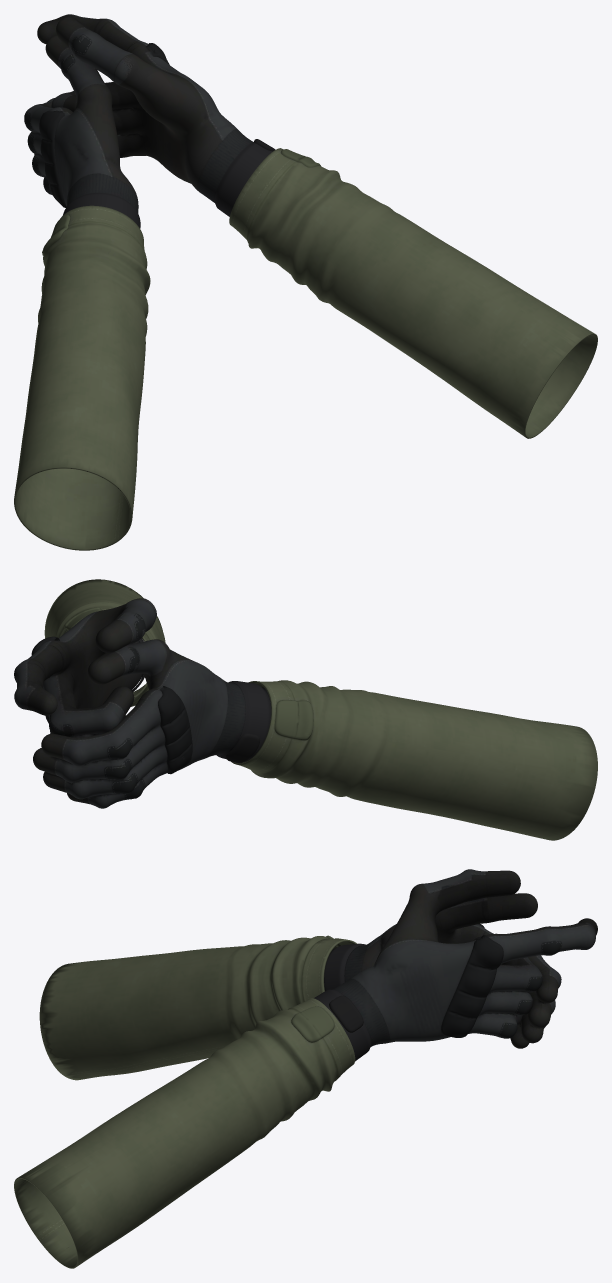
Rendered from arms.glb.
The picture shows the model from 3 angles, top to bottom: view 1: azimuth 30°, elevation 25°; view 2: azimuth 150°, elevation 25°; view 3: azimuth 270°, elevation 25°; orthographic projection. The views are drawn at different scales.
Parts seen in each view (by area): view 1: right_sleeve, left_sleeve, right_glove, left_glove, right_strap, left_knuckle_guard, left_strap; view 2: left_sleeve, left_glove, right_glove, right_sleeve, left_knuckle_guard, left_strap, left_cuff_tab, left_strap_tab; view 3: right_sleeve, left_sleeve, right_glove, left_glove, right_knuckle_guard, right_cuff_tab, left_strap, right_strap, right_strap_tab.
Boxes of the visible parts, <box> form: right_sleeve: <box>229,148,597,438</box>; left_sleeve: <box>14,205,150,550</box>; right_glove: <box>37,14,253,202</box>; left_glove: <box>24,35,138,213</box>; right_strap: <box>214,142,272,216</box>; left_knuckle_guard: <box>39,110,66,207</box>; left_strap: <box>63,192,140,228</box>; left_sleeve: <box>231,680,597,840</box>; left_glove: <box>33,639,271,808</box>; right_glove: <box>14,598,156,737</box>; right_sleeve: <box>44,579,165,706</box>; left_knuckle_guard: <box>158,686,192,774</box>; left_strap: <box>216,681,271,762</box>; left_cuff_tab: <box>274,700,313,740</box>; left_strap_tab: <box>226,733,260,763</box>; right_sleeve: <box>14,998,355,1268</box>; left_sleeve: <box>39,936,357,1080</box>; right_glove: <box>333,869,597,1046</box>; left_glove: <box>331,893,561,1048</box>; right_knuckle_guard: <box>441,935,503,1037</box>; right_cuff_tab: <box>291,1006,334,1042</box>; left_strap: <box>324,943,365,990</box>; right_strap: <box>314,989,371,1061</box>; right_strap_tab: <box>329,995,363,1032</box>.
Size of the model in its own units: 0.4672 by 0.2522 by 0.442.
12 materials, 4 textured.
